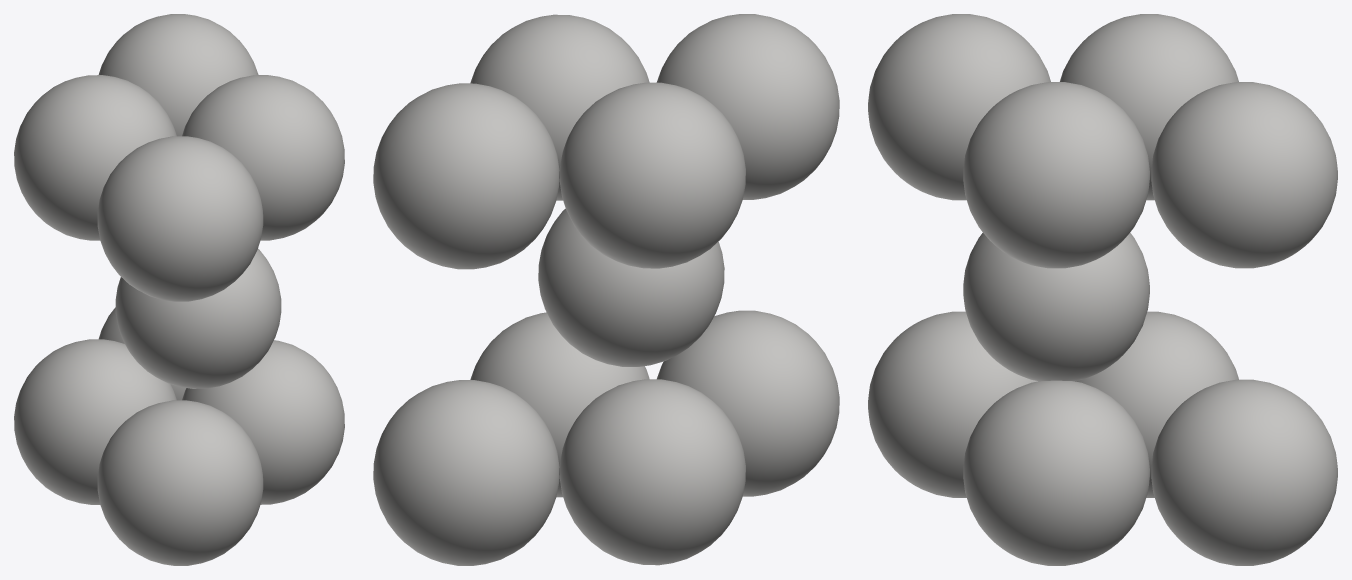
The model's file is liufang6_1.FBX.
3 renders of one model, left to right at view 1: azimuth 30°, elevation 25°; view 2: azimuth 150°, elevation 25°; view 3: azimuth 270°, elevation 25°, orthographic. The views are drawn at different scales.
Parts seen in each view (by area): view 1: 对象457; view 2: 对象457; view 3: 对象457.
Boxes of the visible parts, <box> form: 对象457: <box>14,14,344,565</box>; 对象457: <box>373,14,839,565</box>; 对象457: <box>868,14,1337,565</box>.
Size of the model in its own units: 74.3 by 110 by 100.
1 material, 1 textured.
